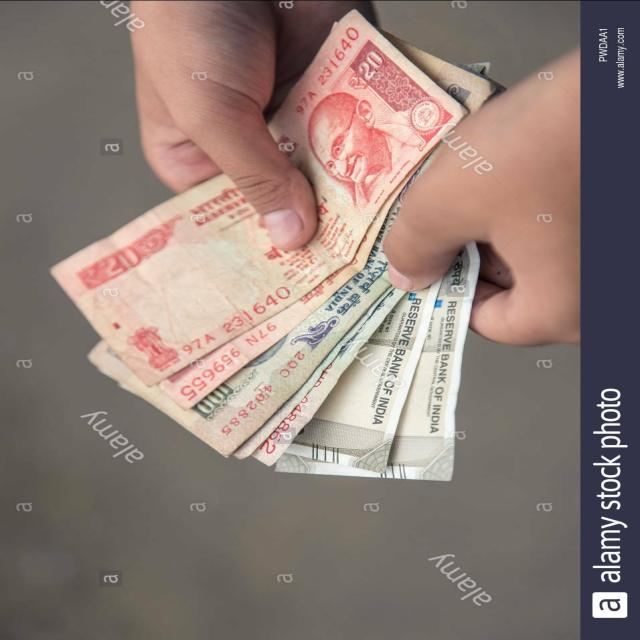20IndianRupees: (55, 8, 469, 352)
